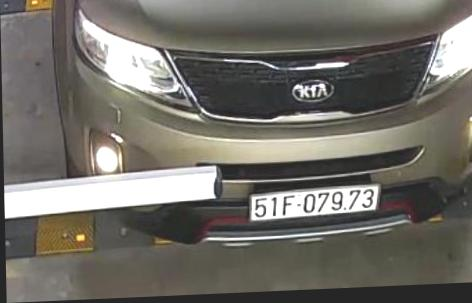License_Plate: (246, 177, 381, 227)
